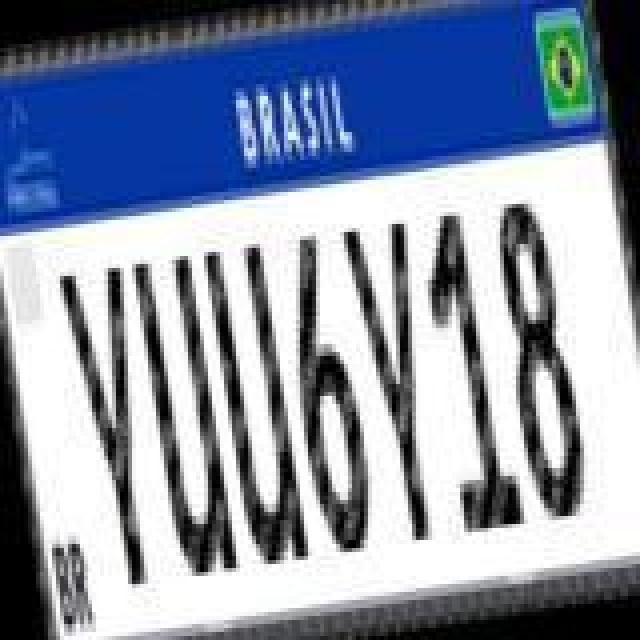1: (414, 200, 530, 536)
6: (270, 224, 386, 560)
8: (482, 192, 598, 528)
U: (200, 234, 312, 574), (128, 248, 240, 584)
Y: (52, 260, 172, 596), (336, 212, 456, 548)
